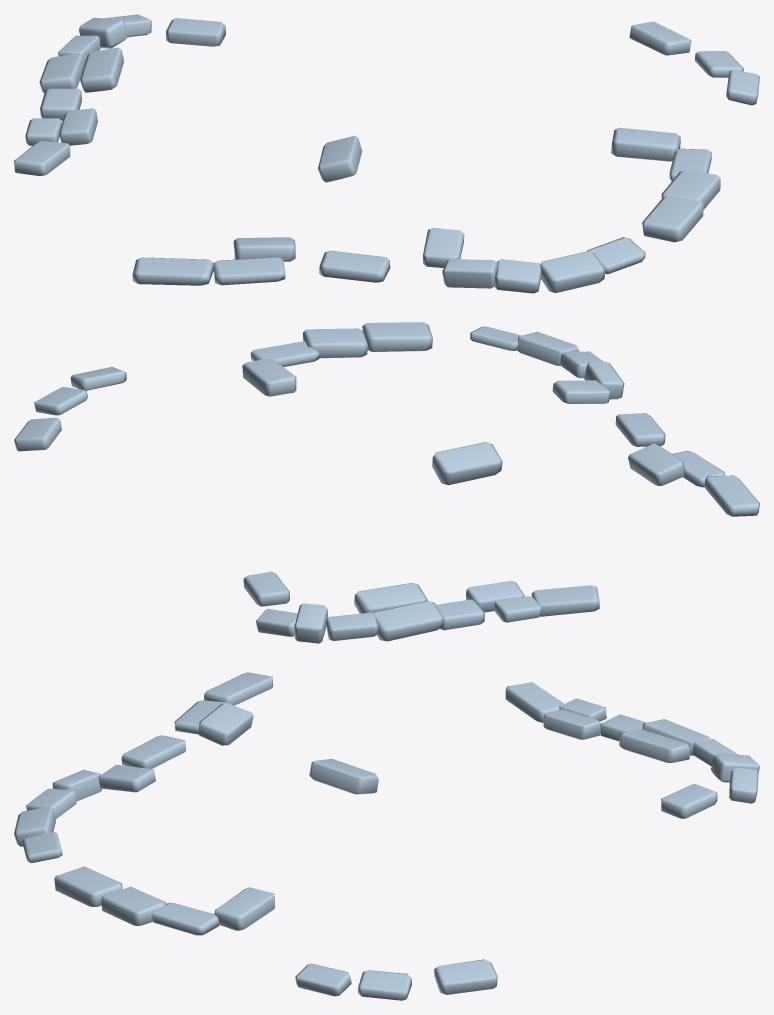
Rendered from Rubble_04B_Lod0.fbx.
The picture shows the model from 3 angles, top to bottom: view 1: azimuth 30°, elevation 25°; view 2: azimuth 150°, elevation 25°; view 3: azimuth 270°, elevation 25°; orthographic projection. The views are drawn at different scales.
Parts seen in each view (by area): view 1: Rubble_04B_Lod0; view 2: Rubble_04B_Lod0; view 3: Rubble_04B_Lod0.
Part boxes in pixels (x1=…): Rubble_04B_Lod0: x1=14, y1=14, x2=759, y2=293; Rubble_04B_Lod0: x1=14, y1=322, x2=759, y2=643; Rubble_04B_Lod0: x1=14, y1=672, x2=759, y2=1000.
Size of the model in its own units: 759 by 48.4 by 744.
